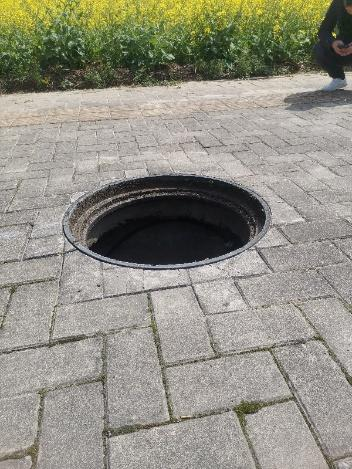wellcover: (61, 166, 278, 265)
